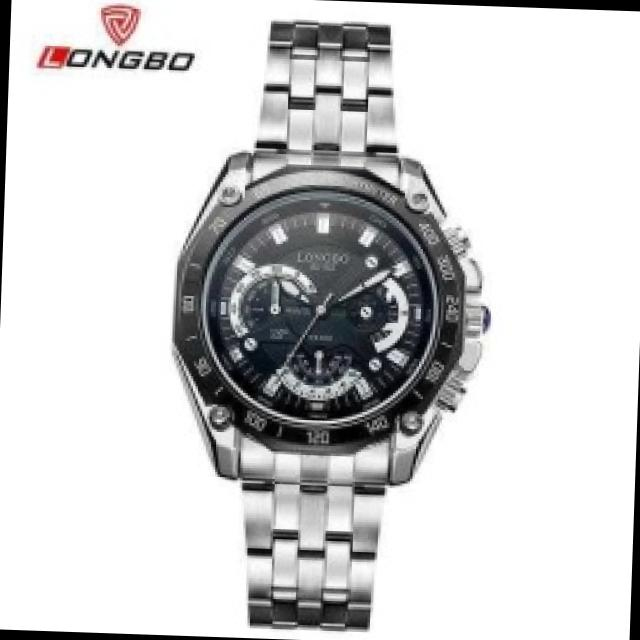saat: (151, 0, 508, 640)
